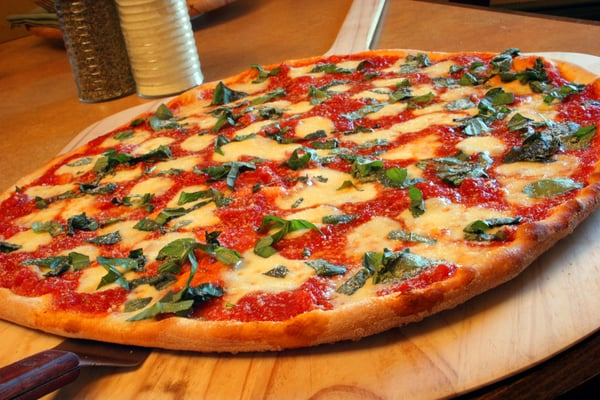burger: (52, 0, 205, 101), (53, 0, 138, 102)
curry: (0, 1, 600, 388)
sandwich: (2, 48, 600, 352)
